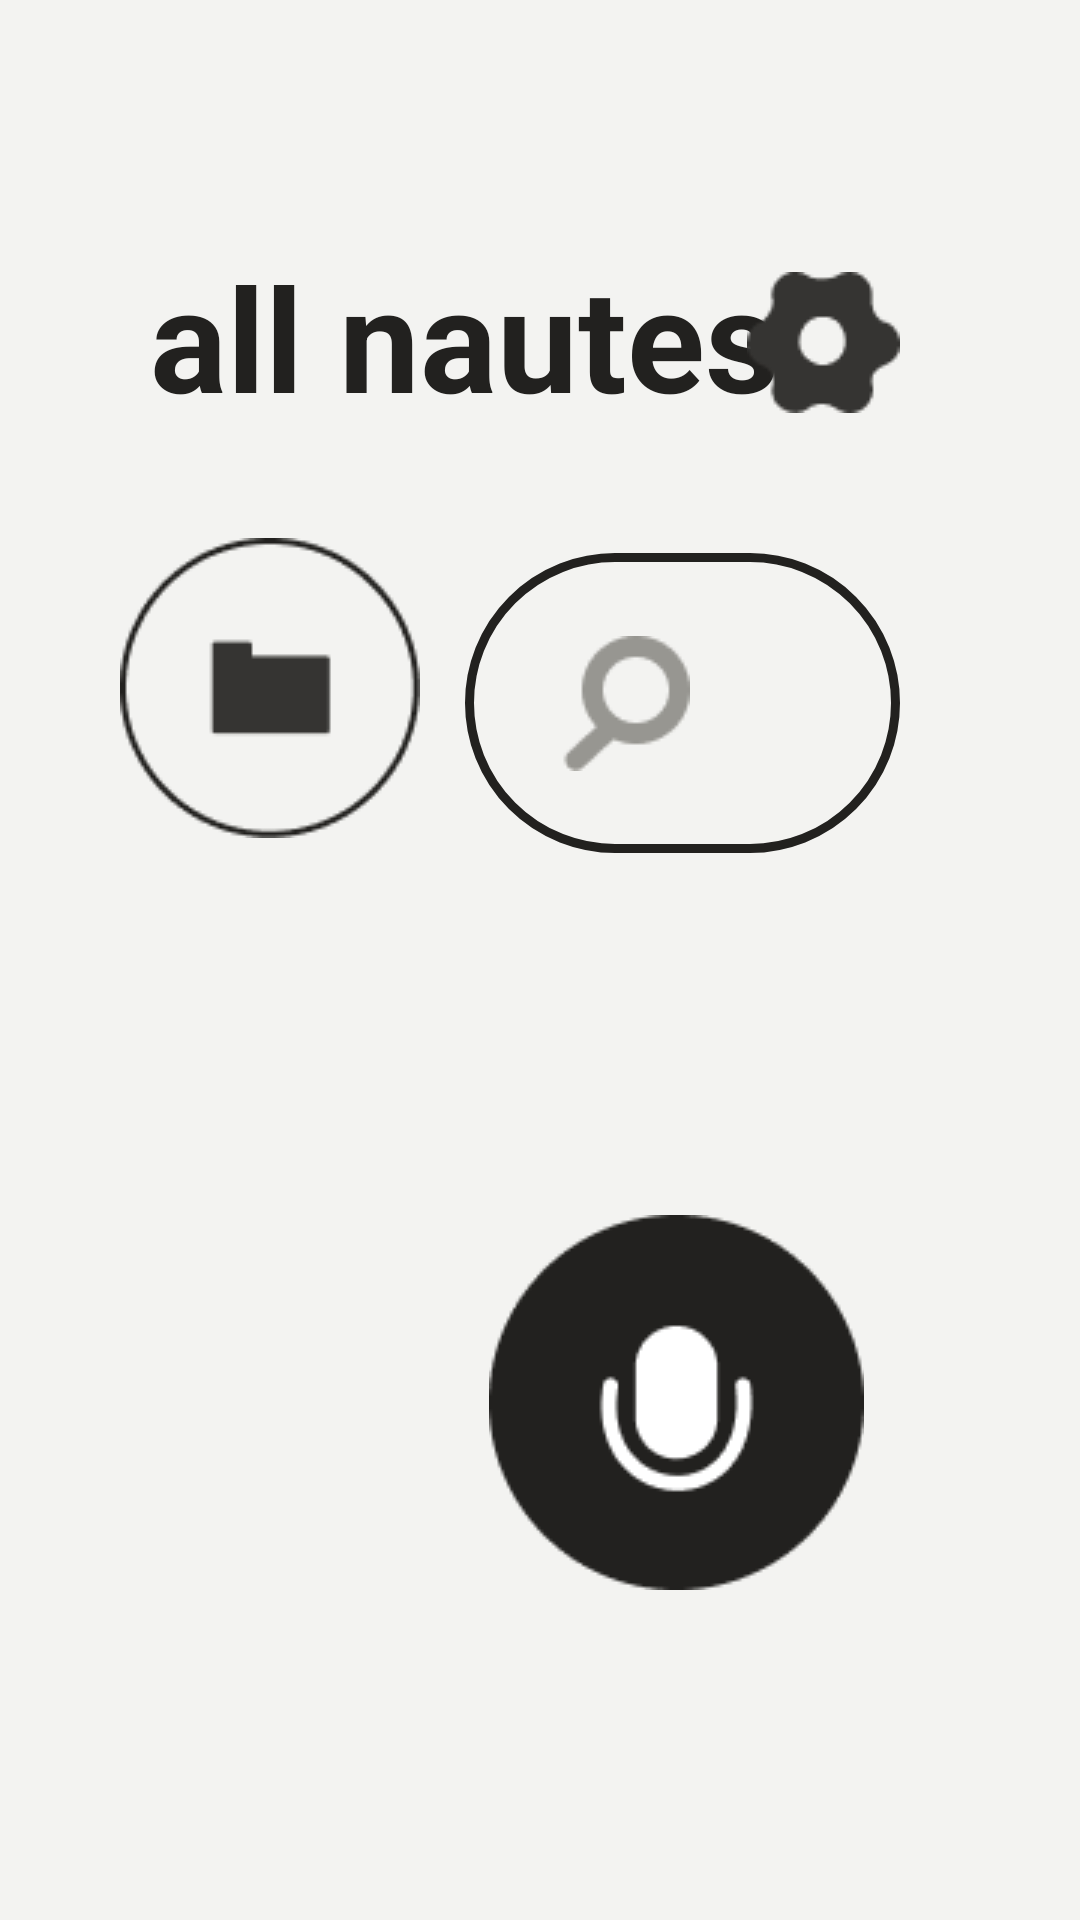

Icons on this 1080×1920 Android screen, each with its box as [x1=x1, y1=y1, x2=x2, y2=y2]:
folders: [x1=120, y1=538, x2=420, y2=838]
settings: [x1=747, y1=272, x2=900, y2=413]
